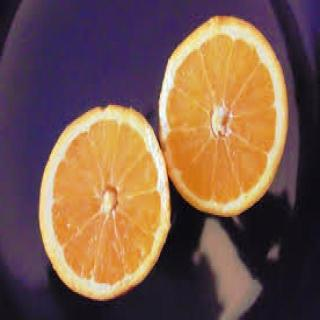orange: (152, 2, 298, 221), (34, 89, 174, 309)
